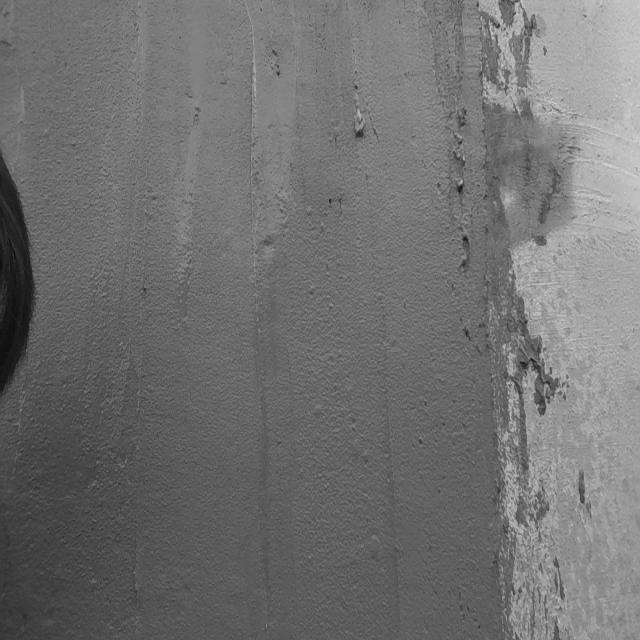trowels marks: (247, 20, 259, 250)
